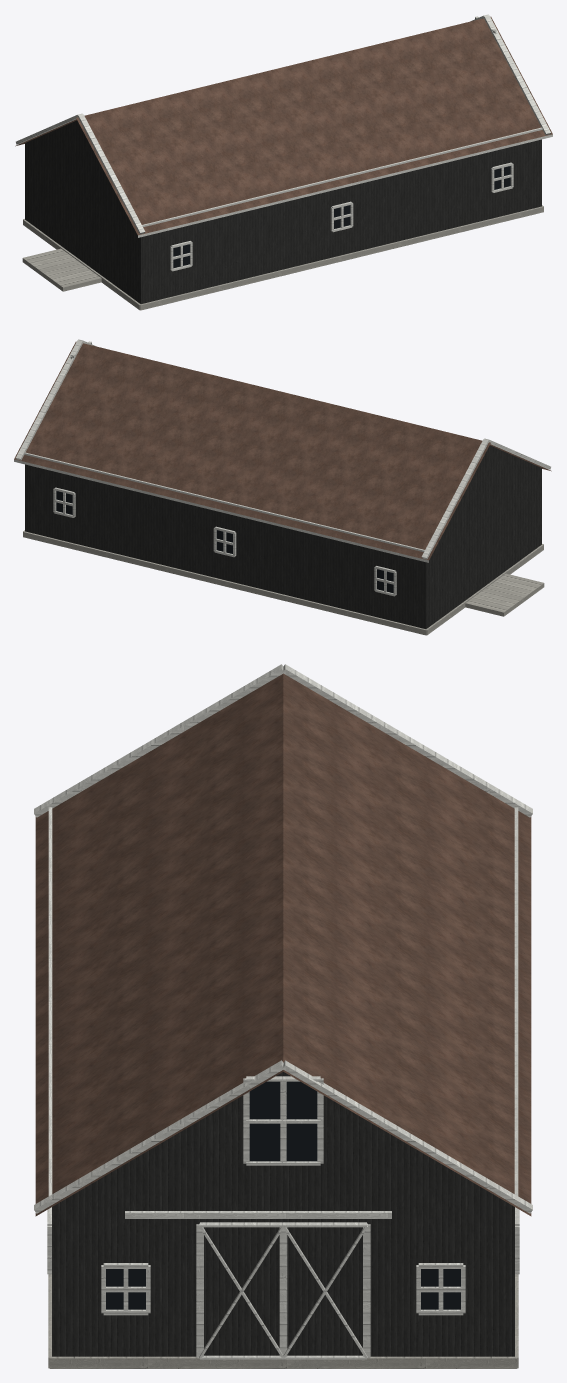
File: barn-b.glb
3 renders of one model, top to bottom at view 1: azimuth 30°, elevation 25°; view 2: azimuth 150°, elevation 25°; view 3: azimuth 270°, elevation 25°, orthographic. The views are drawn at different scales.
Visible parts, largest first — view 1: barn-b2; view 2: barn-b2; view 3: barn-b2.
Boxes of the visible parts, bbox=[...] form: barn-b2: bbox=[15, 14, 552, 310]; barn-b2: bbox=[14, 339, 551, 635]; barn-b2: bbox=[34, 664, 532, 1368].
Bounding box in the file's own units: 7.45 × 2.44 × 3.59.
Materials: 5 (4 with a texture image).
